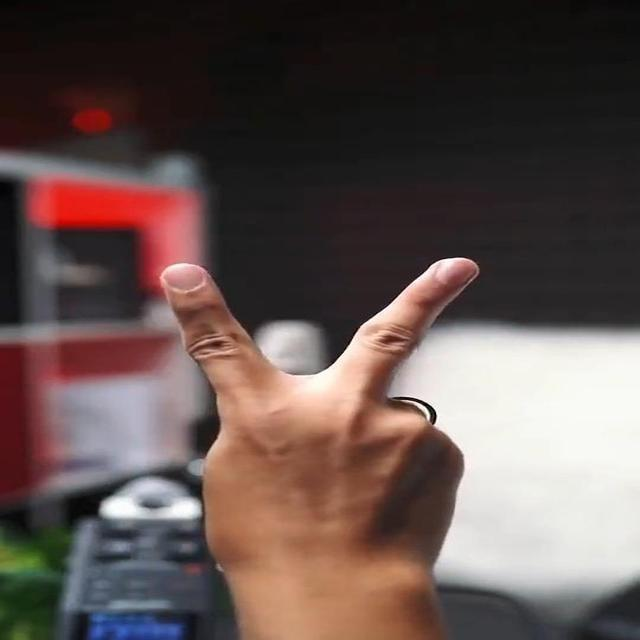V: (131, 250, 494, 477)
